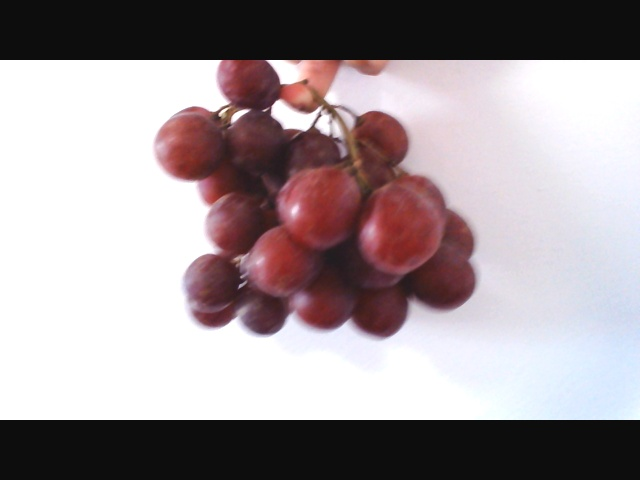grape: (147, 63, 489, 339)
